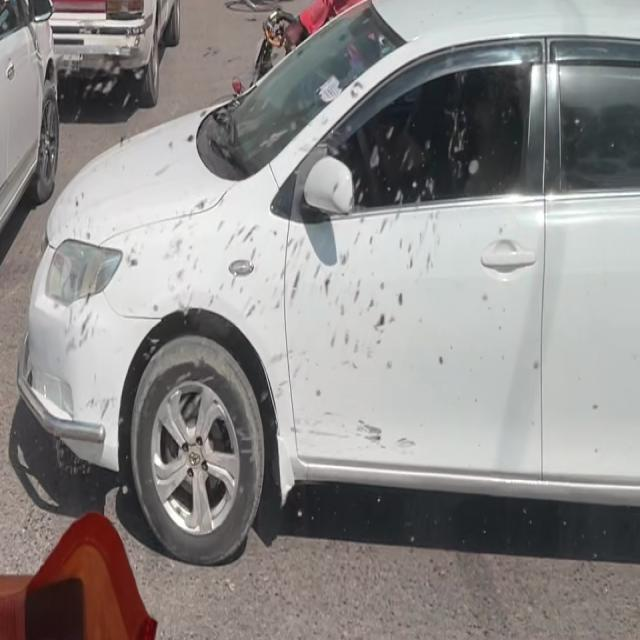car: (2, 0, 640, 561), (6, 0, 188, 116), (0, 0, 54, 368)
